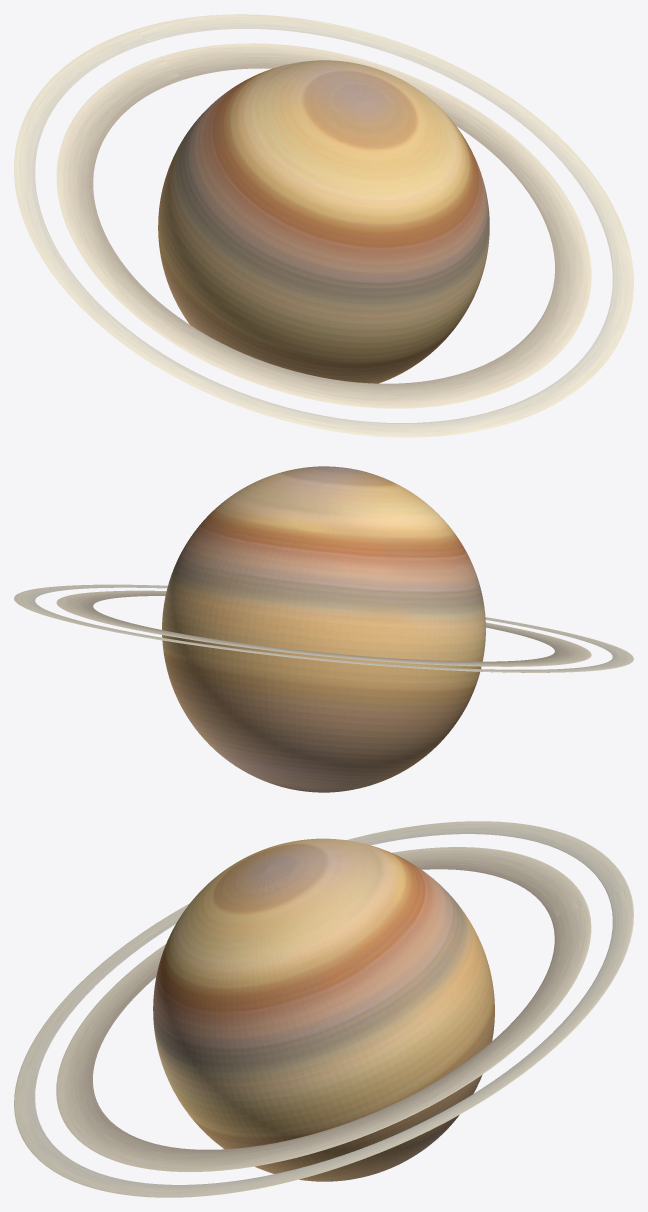
The model's file is Saturn.glb.
3 renders of one model, top to bottom at view 1: azimuth 30°, elevation 25°; view 2: azimuth 150°, elevation 25°; view 3: azimuth 270°, elevation 25°, orthographic. The views are drawn at different scales.
Visible parts, largest first — view 1: 13906_Saturn; view 2: 13906_Saturn; view 3: 13906_Saturn.
Boxes of the visible parts, x1,y1,x2,y2 form: 13906_Saturn: [14, 14, 633, 437]; 13906_Saturn: [14, 466, 633, 792]; 13906_Saturn: [14, 821, 633, 1197].
Size of the model in its own units: 963 by 505 by 912.
1 material, 1 textured.
